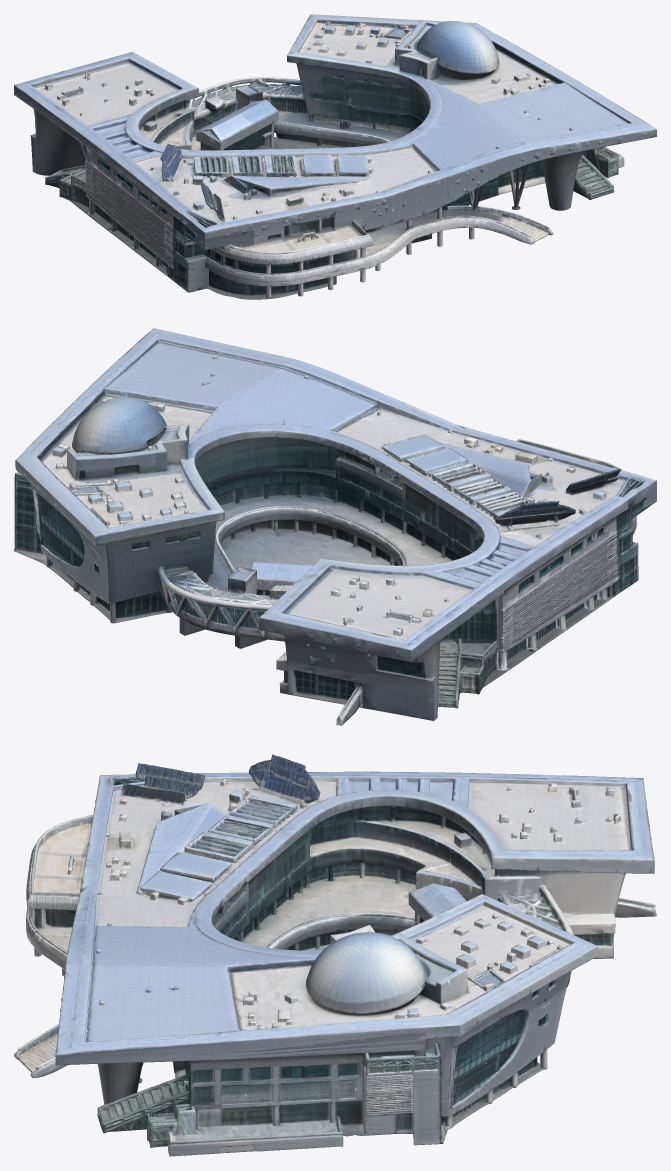
The model's file is model-lite.glb.
3 renders of one model, top to bottom at view 1: azimuth 30°, elevation 25°; view 2: azimuth 150°, elevation 25°; view 3: azimuth 270°, elevation 25°, orthographic. The views are drawn at different scales.
Parts seen in each view (by area): view 1: tripo_node_a4ef9efd-77b0-498d-9d00-46c68def4711; view 2: tripo_node_a4ef9efd-77b0-498d-9d00-46c68def4711; view 3: tripo_node_a4ef9efd-77b0-498d-9d00-46c68def4711.
Part boxes in pixels (x1=…): tripo_node_a4ef9efd-77b0-498d-9d00-46c68def4711: x1=14, y1=14, x2=656, y2=299; tripo_node_a4ef9efd-77b0-498d-9d00-46c68def4711: x1=14, y1=328, x2=656, y2=725; tripo_node_a4ef9efd-77b0-498d-9d00-46c68def4711: x1=14, y1=754, x2=656, y2=1156.
Bounding box in the file's own units: 0.9808 × 0.2598 × 0.8921.
1 material, 1 textured.
